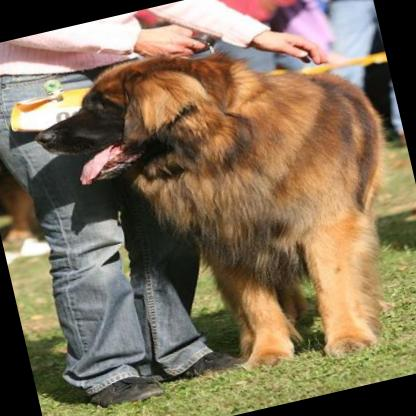Leonberg: (24, 13, 416, 412)
